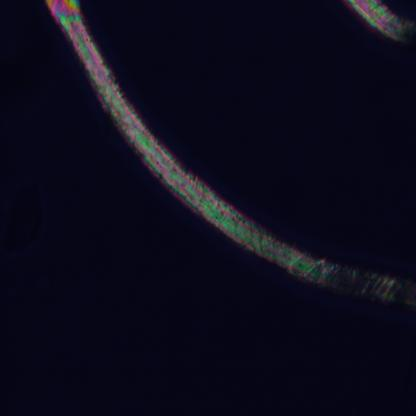Microfibre: (45, 0, 416, 312), (350, 1, 416, 49)
